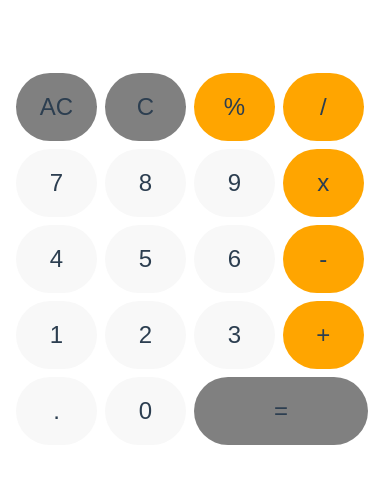
Test case: Calculator › click two operator sequentially
 click 8
Click the button "8" at {"x": 146, "y": 183}, box [105, 149, 186, 217]
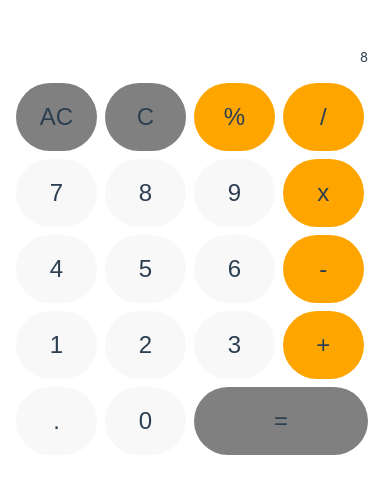
 click -
Click the button "-" at {"x": 323, "y": 269}, box [283, 235, 364, 303]
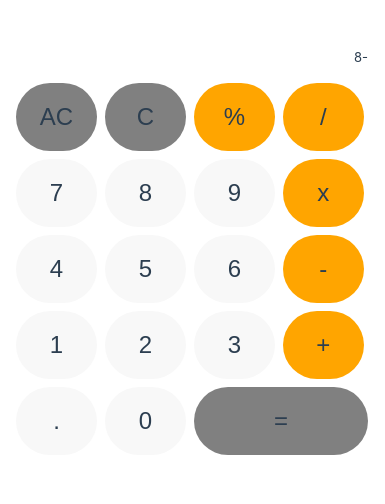
 click +
Click the button "+" at {"x": 323, "y": 345}, box [283, 311, 364, 379]
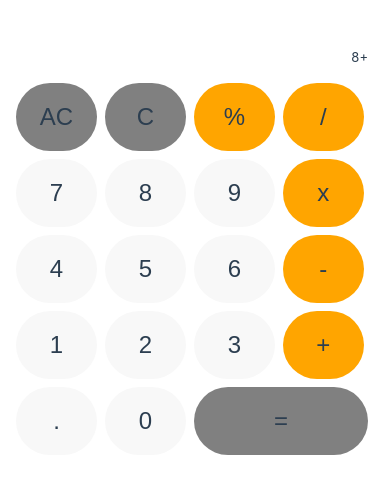
 click 7
Click the button "7" at {"x": 56, "y": 193}, box [16, 159, 97, 227]
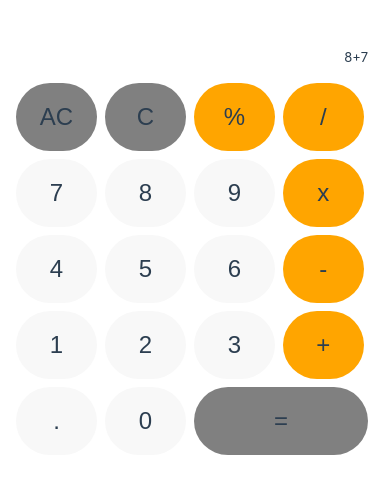
Click the button "=" at {"x": 281, "y": 421}, box [194, 387, 368, 455]
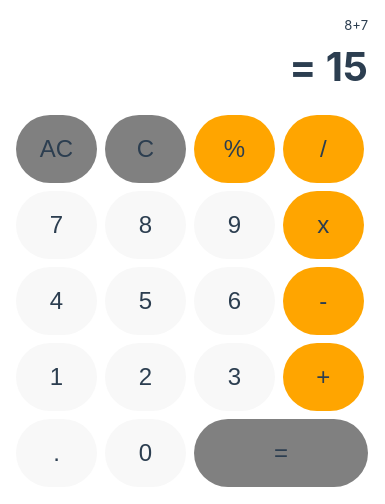
Result: the text with id "expr" reads "8+7" at [344, 17, 368, 33]
Result: the text with id "result" reads "= 15" at [289, 42, 368, 91]
